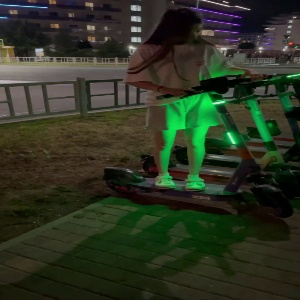human on a scooter: (98, 6, 292, 221)
